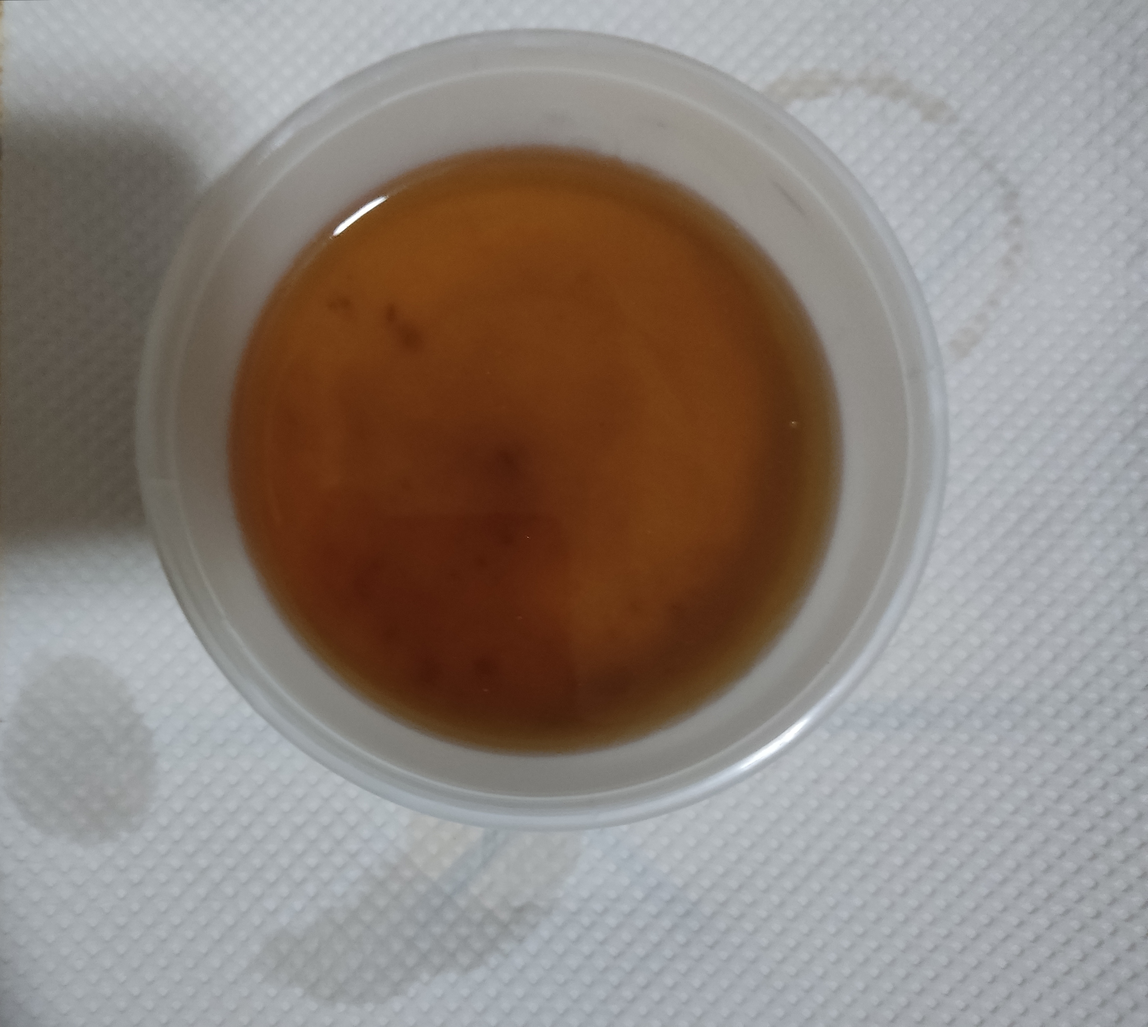non-reusable: (237, 149, 835, 753)
